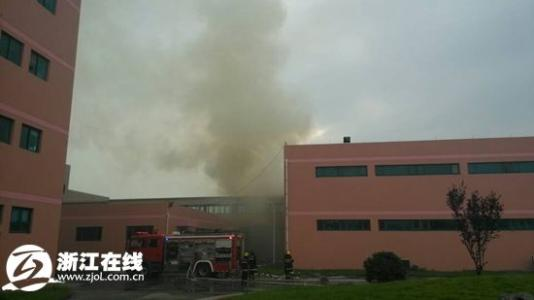smoke: (154, 10, 295, 183)
